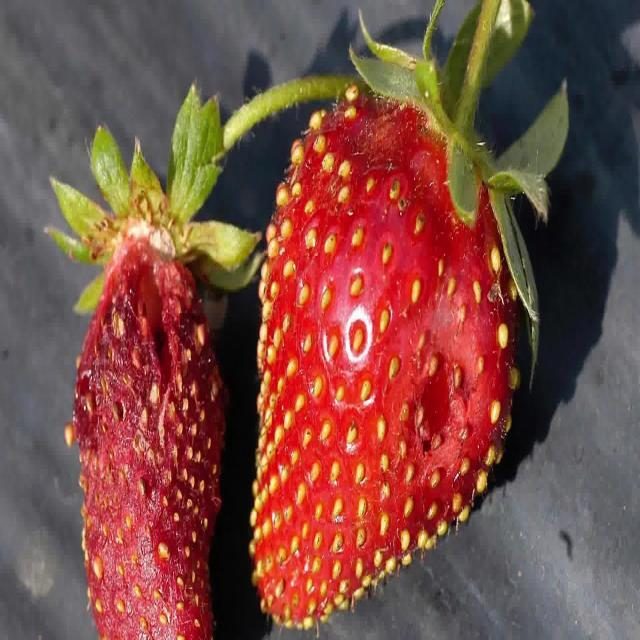Mancha negra Antracnosis: (255, 51, 546, 630), (34, 211, 234, 640)
